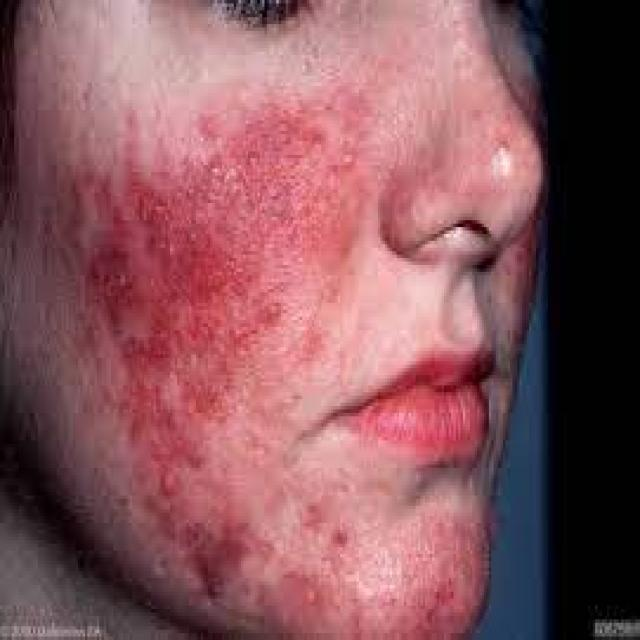Rosacea: (66, 68, 376, 610), (247, 500, 485, 640)
